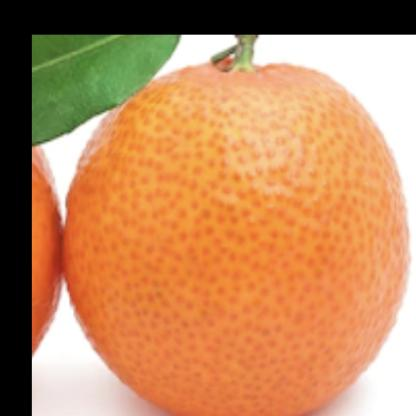fresh: (55, 54, 416, 416)
